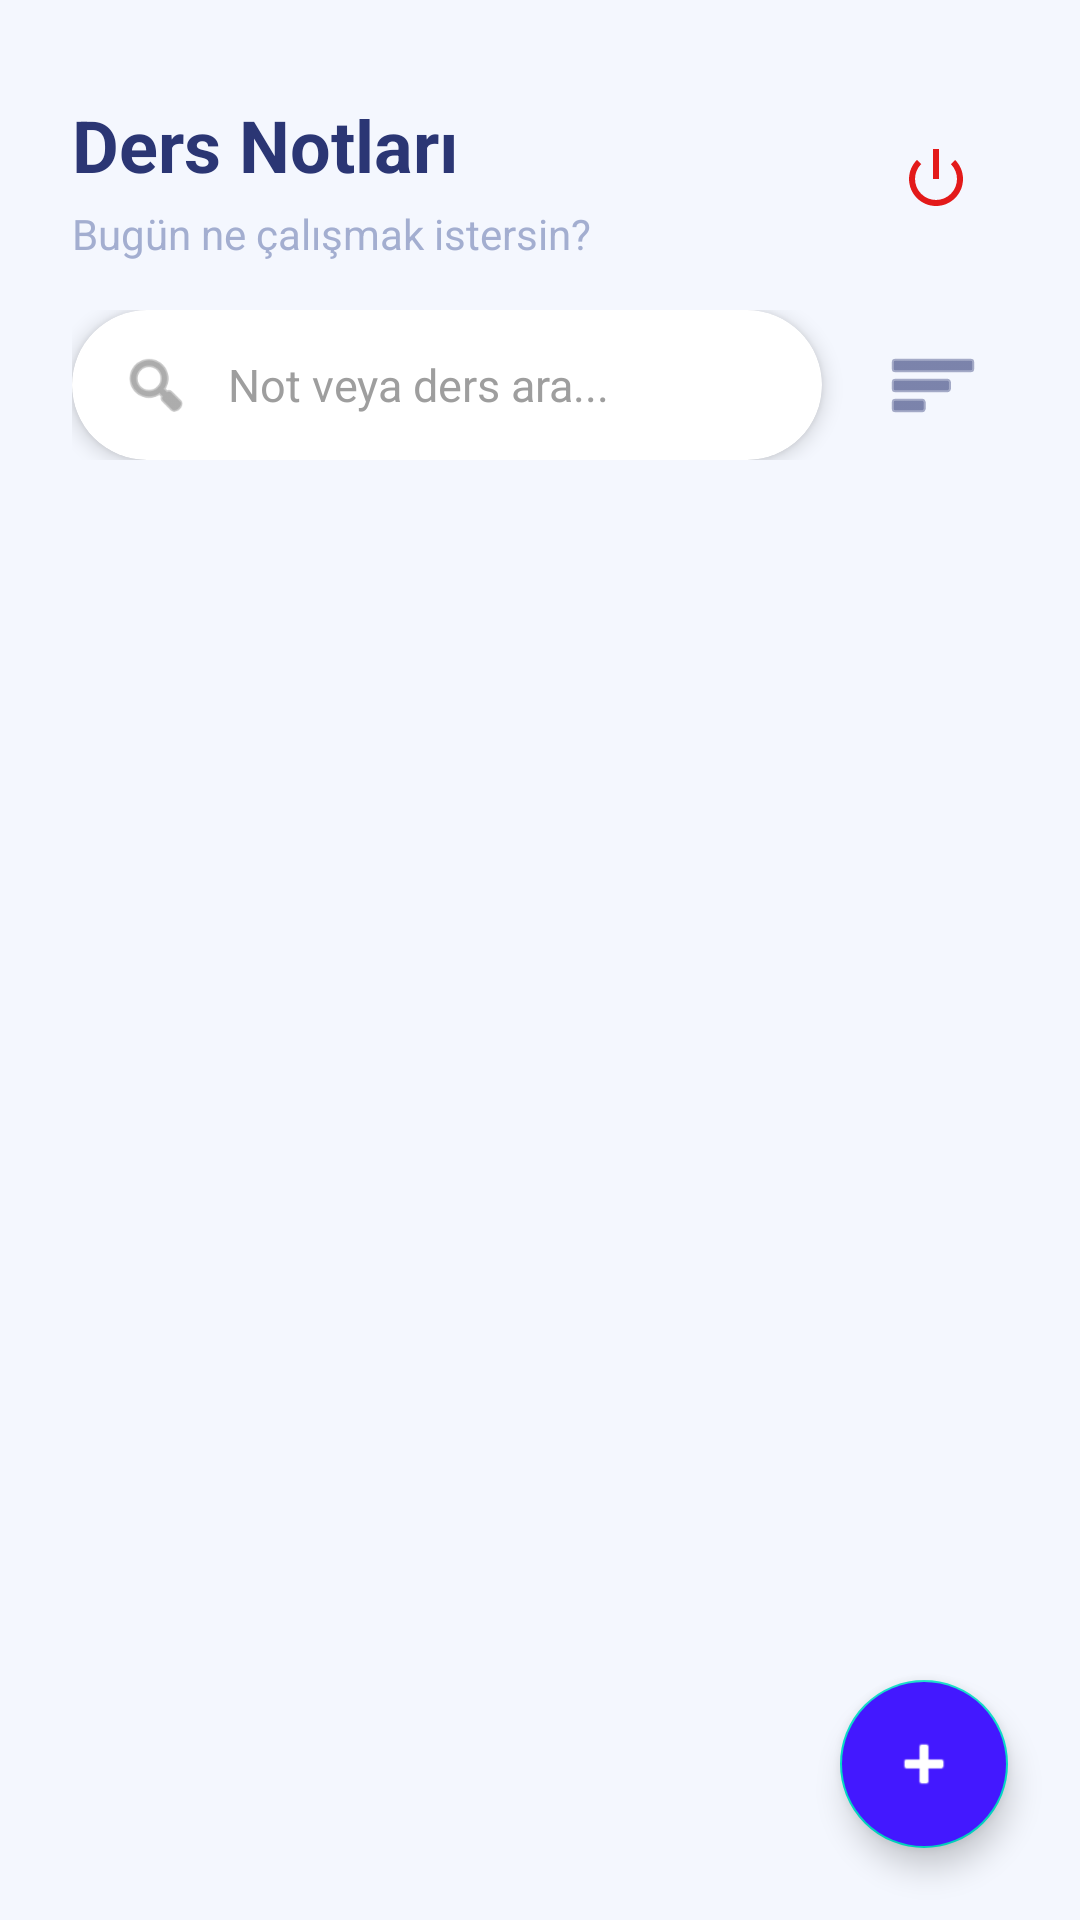

Point at icon controls on the screen. Image size 1080px x 1920px, points as (x,y).
add: (924,1764)
lock power off: (936,177)
search: (156,385)
sort by size: (933,385)
